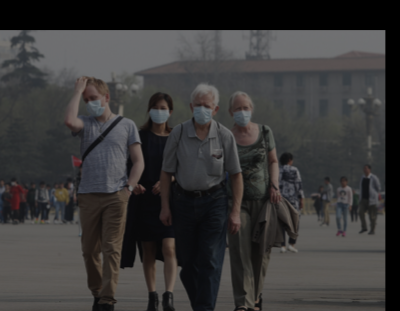with_mask: (82, 94, 105, 119), (192, 100, 214, 126), (232, 103, 252, 126), (148, 105, 170, 125)
without_mask: (364, 165, 370, 174), (341, 178, 347, 186)
